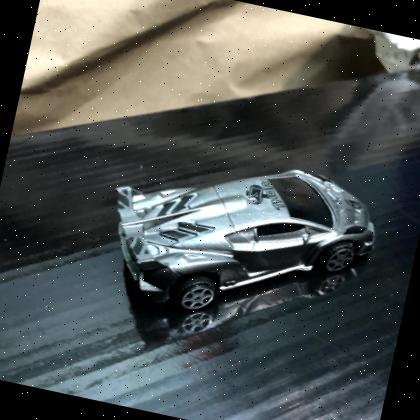Car: (116, 170, 375, 310)
